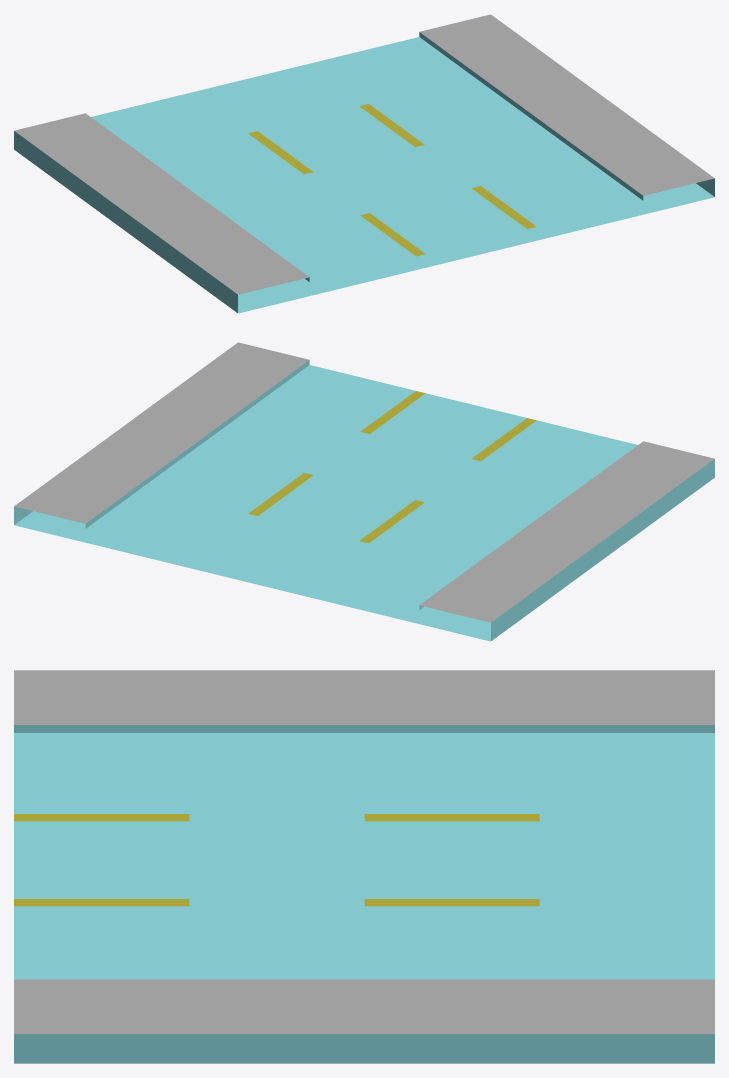
File: road_straight.fbx
3 renders of one model, top to bottom at view 1: azimuth 30°, elevation 25°; view 2: azimuth 150°, elevation 25°; view 3: azimuth 270°, elevation 25°, orthographic. The views are drawn at different scales.
Parts seen in each view (by area): view 1: road_straight; view 2: road_straight; view 3: road_straight.
Boxes of the visible parts, x1,y1,x2,y2 form: road_straight: (14, 14, 714, 313); road_straight: (14, 342, 714, 641); road_straight: (14, 670, 714, 1063).
Size of the model in its own units: 491 by 18.55 by 400.
